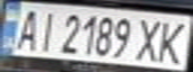1: (78, 11, 100, 56)
2: (57, 9, 84, 55)
8: (93, 12, 118, 57)
9: (109, 13, 136, 60)
A: (9, 6, 42, 52)
I: (30, 7, 60, 53)
K: (151, 17, 193, 65)
X: (133, 16, 166, 63)
